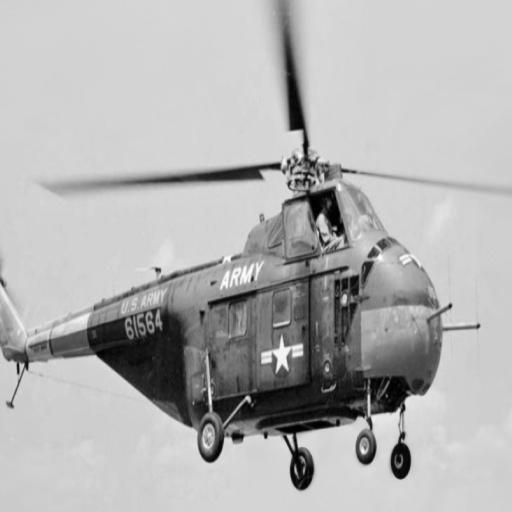helicopter: (1, 1, 480, 499)
